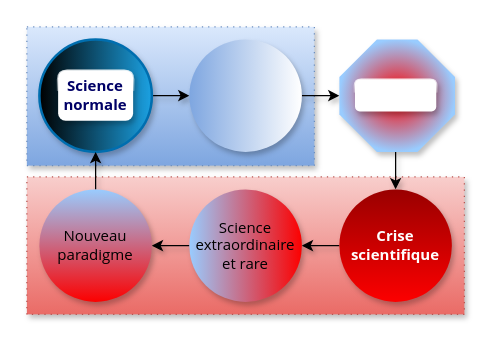
The diagram is 494 pixels wide and 345 high, and some of its shapes have lost their labels. The centre of each missing label's shape, as x and y in pixels:
"Adoption unanime d'un paradigme" belongs at [246,97].
"Anomalie" belongs at [396,97].
